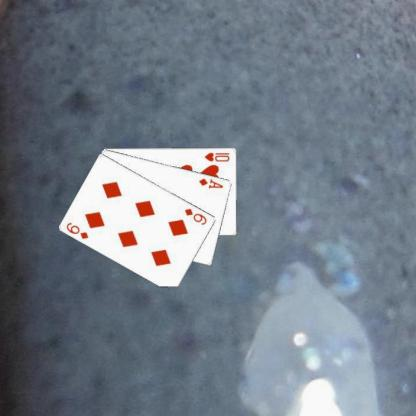10H: (202, 150, 231, 162)
6D: (182, 206, 208, 226), (64, 220, 90, 240)
AD: (196, 176, 225, 190)
